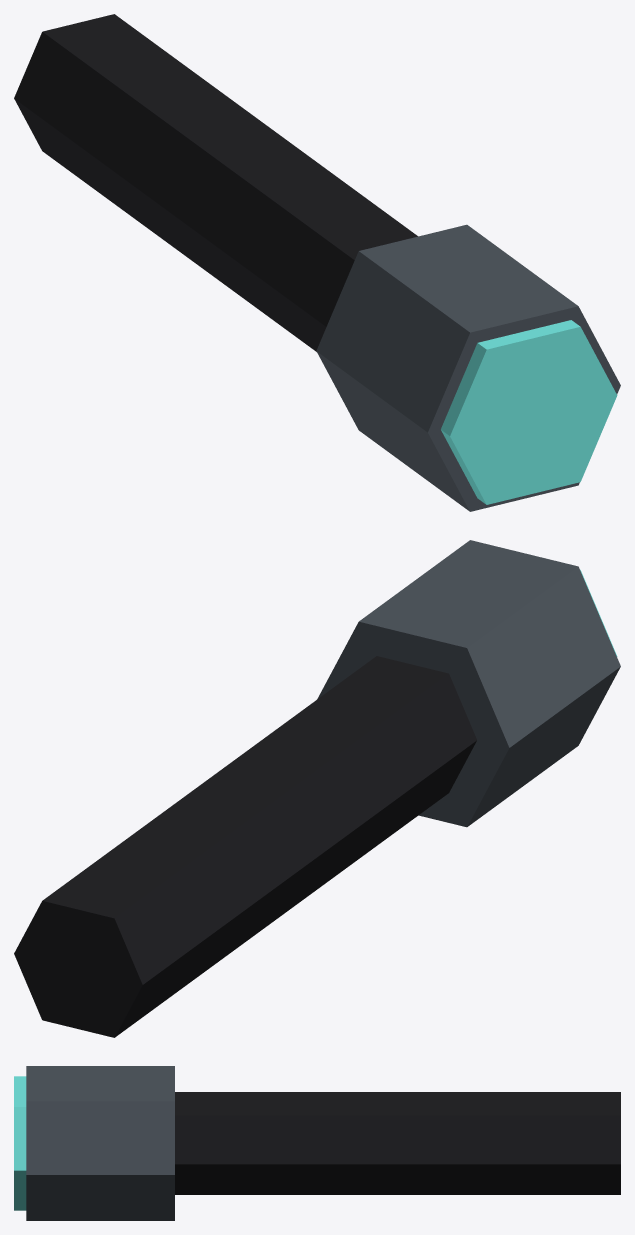
Rendered from GD_Flashlight_01.glb.
The picture shows the model from 3 angles, top to bottom: view 1: azimuth 30°, elevation 25°; view 2: azimuth 150°, elevation 25°; view 3: azimuth 270°, elevation 25°; orthographic projection. The views are drawn at different scales.
Visible parts, largest first — view 1: GD_Flashlight_01; view 2: GD_Flashlight_01; view 3: GD_Flashlight_01.
Boxes of the visible parts, x1=… form: GD_Flashlight_01: x1=14, y1=14, x2=620, y2=511; GD_Flashlight_01: x1=14, y1=540, x2=620, y2=1037; GD_Flashlight_01: x1=14, y1=1066, x2=620, y2=1220.
Size of the model in its own units: 0.06 by 0.0532 by 0.245.
Materials: 1 (1 with a texture image).
